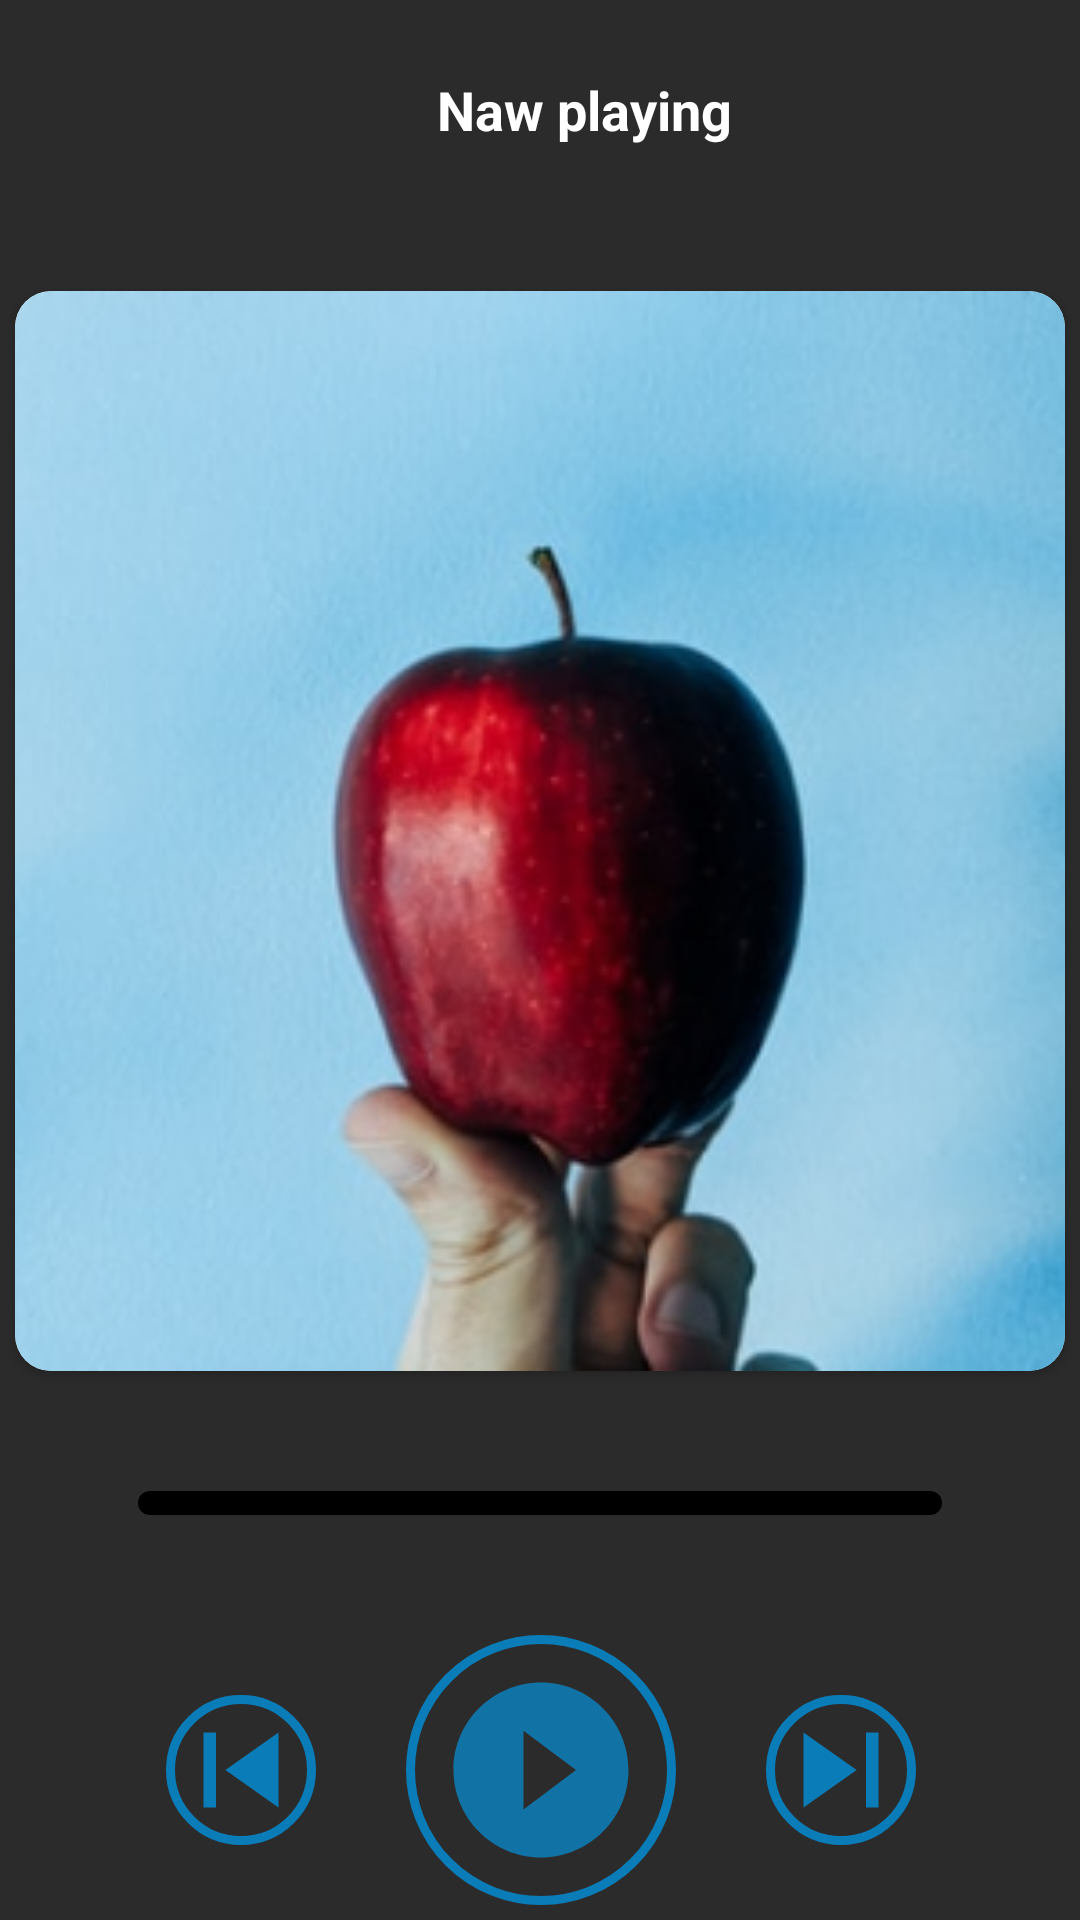

Icons on this 1080*1920 Android screen, each with its box as (x1, y1, x2, y2):
skip next: (766, 1695, 916, 1845)
skip previous: (166, 1695, 316, 1845)
